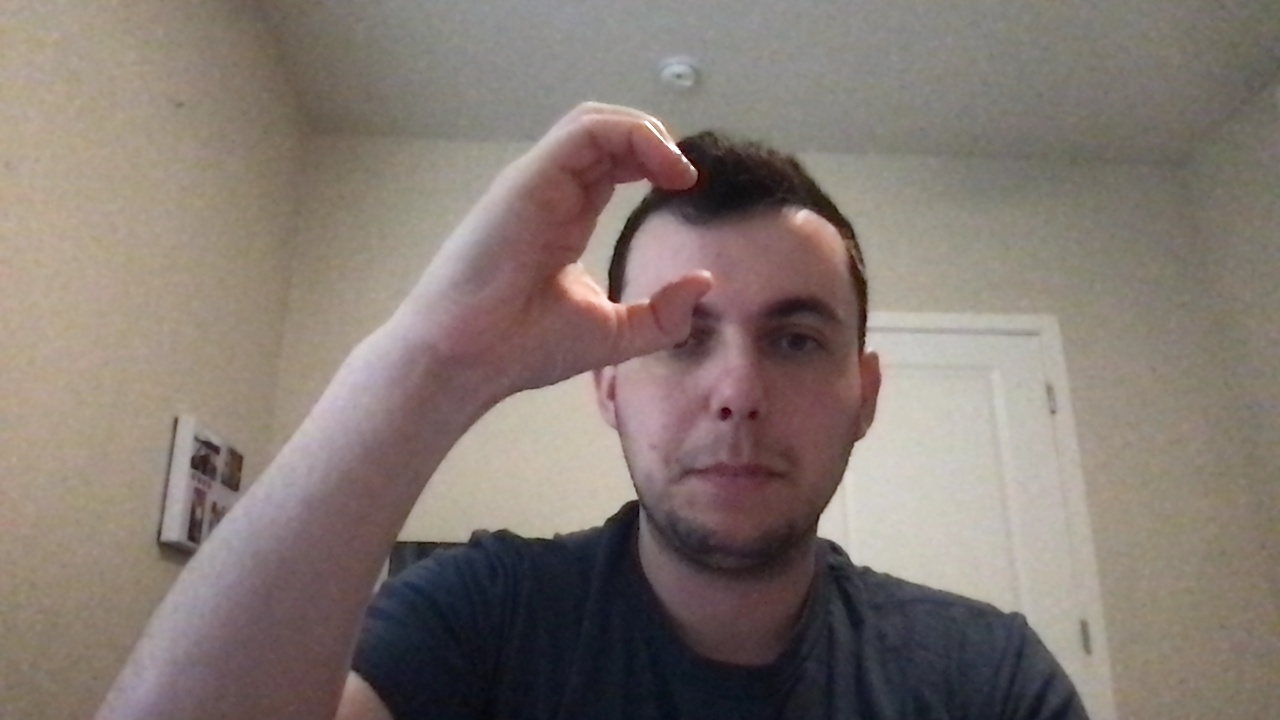c: (437, 88, 718, 414)
